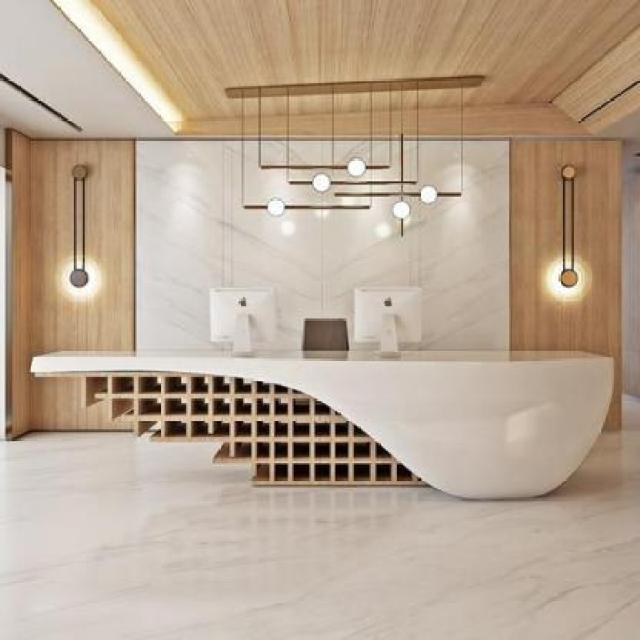frontdesk: (28, 340, 620, 512)
